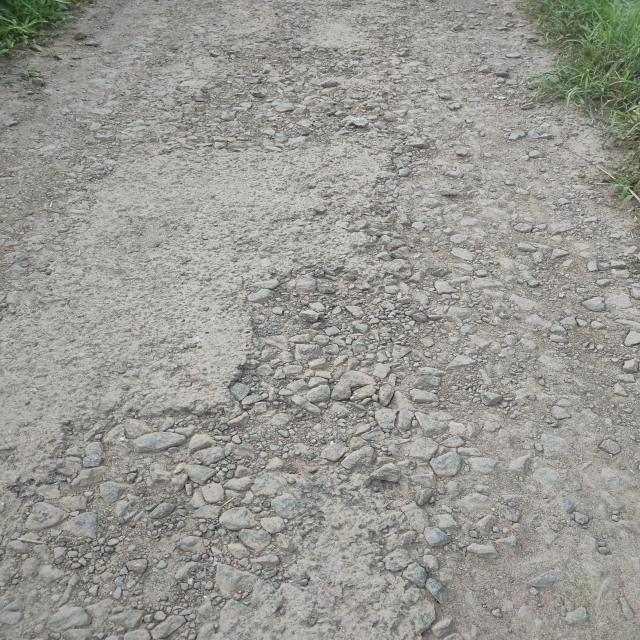potholes: (4, 260, 440, 640)
